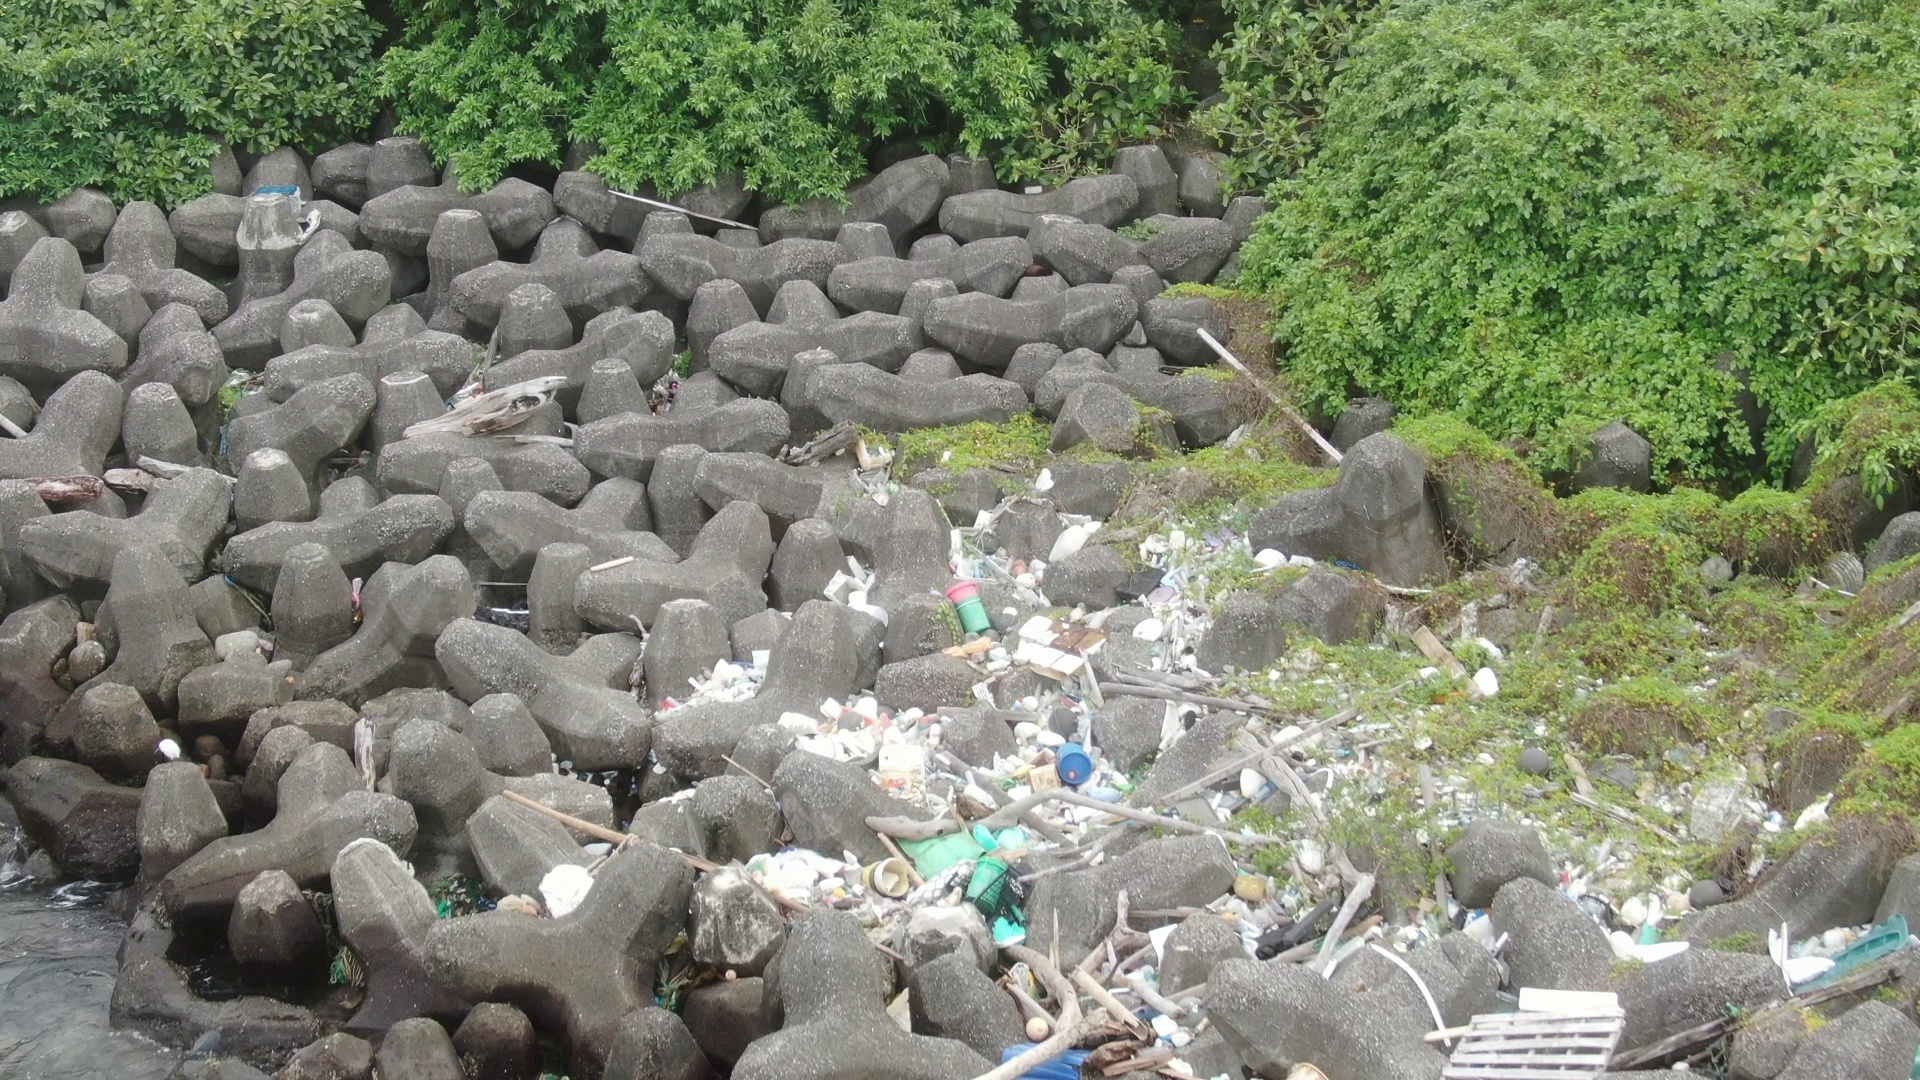garbage: (646, 638, 1683, 1080), (828, 454, 1327, 640), (1764, 890, 1911, 1019), (1739, 779, 1865, 856), (489, 851, 600, 927), (425, 870, 496, 924), (323, 936, 384, 990), (645, 369, 688, 426), (252, 174, 301, 206), (345, 576, 373, 626)
